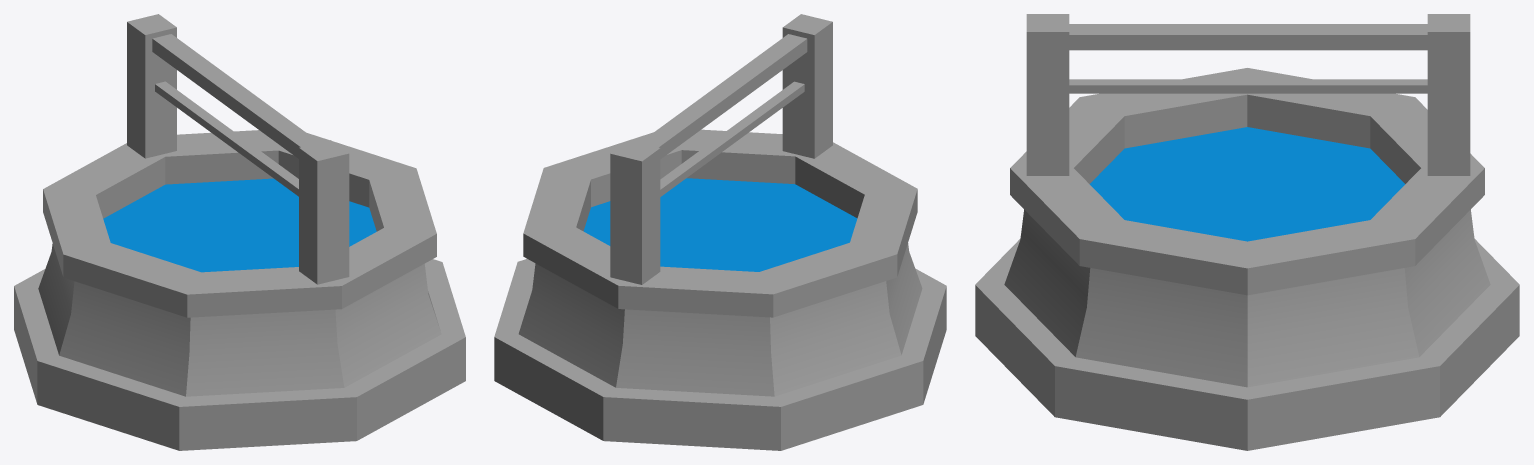
File: Well_irgjkwrgkwebn.fbx
3 views of the same model, side by side, from view 1: azimuth 30°, elevation 25°; view 2: azimuth 150°, elevation 25°; view 3: azimuth 270°, elevation 25° (orthographic). The views are drawn at different scales.
Parts seen in each view (by area): view 1: Well_weiurfhwkjebtkj; view 2: Well_weiurfhwkjebtkj; view 3: Well_weiurfhwkjebtkj.
Part boxes in pixels (bbox=[...]): Well_weiurfhwkjebtkj: bbox=[14, 14, 465, 450]; Well_weiurfhwkjebtkj: bbox=[494, 14, 946, 450]; Well_weiurfhwkjebtkj: bbox=[975, 14, 1519, 450].
Size of the model in its own units: 287 by 181 by 287.
